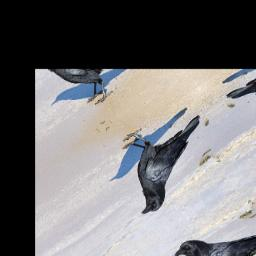Crow: (97, 95, 231, 219)
